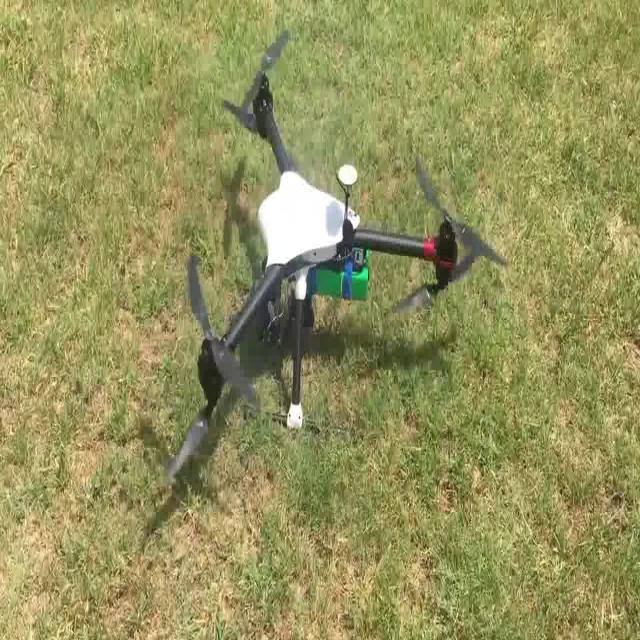drone: (159, 27, 507, 477)
